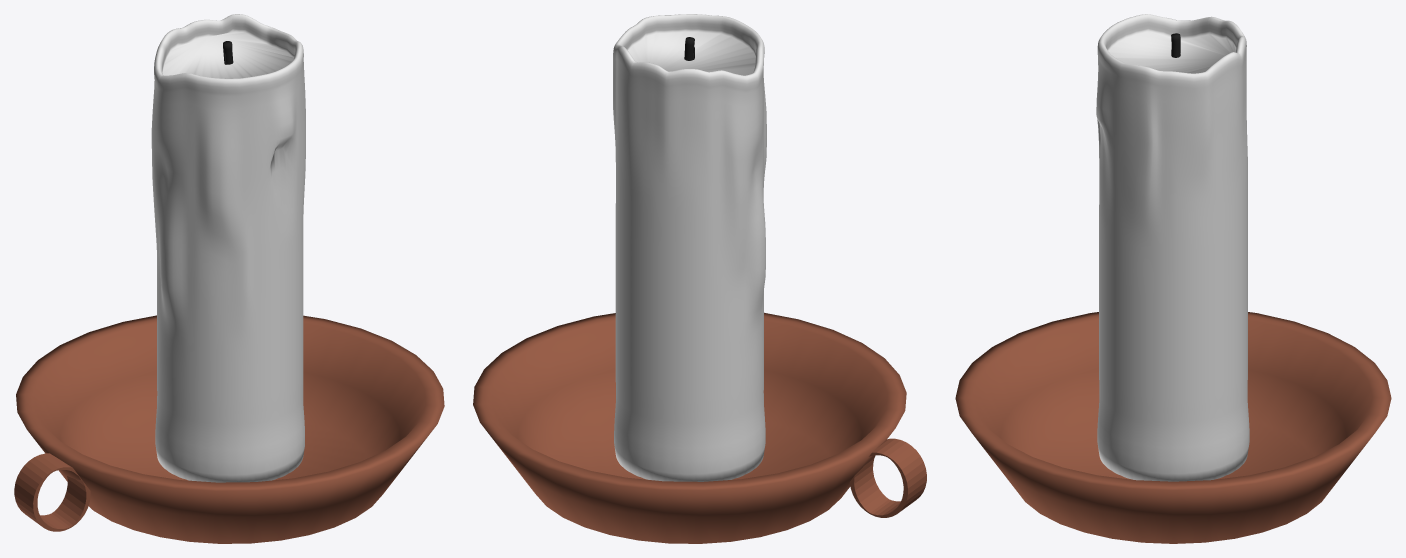
The model's file is candle.fbx.
3 views of the same model, side by side, from view 1: azimuth 30°, elevation 25°; view 2: azimuth 150°, elevation 25°; view 3: azimuth 270°, elevation 25° (orthographic).
Parts seen in each view (by area): view 1: candle, candleHolder; view 2: candle, candleHolder; view 3: candle, candleHolder.
Part boxes in pixels (x1=…): candle: x1=151, y1=14, x2=305, y2=482; candleHolder: x1=14, y1=315, x2=444, y2=543; candle: x1=613, y1=14, x2=766, y2=481; candleHolder: x1=473, y1=312, x2=926, y2=543; candle: x1=1096, y1=14, x2=1249, y2=481; candleHolder: x1=955, y1=312, x2=1391, y2=543.
Size of the model in its own units: 0.1887 by 0.1949 by 0.1748.
